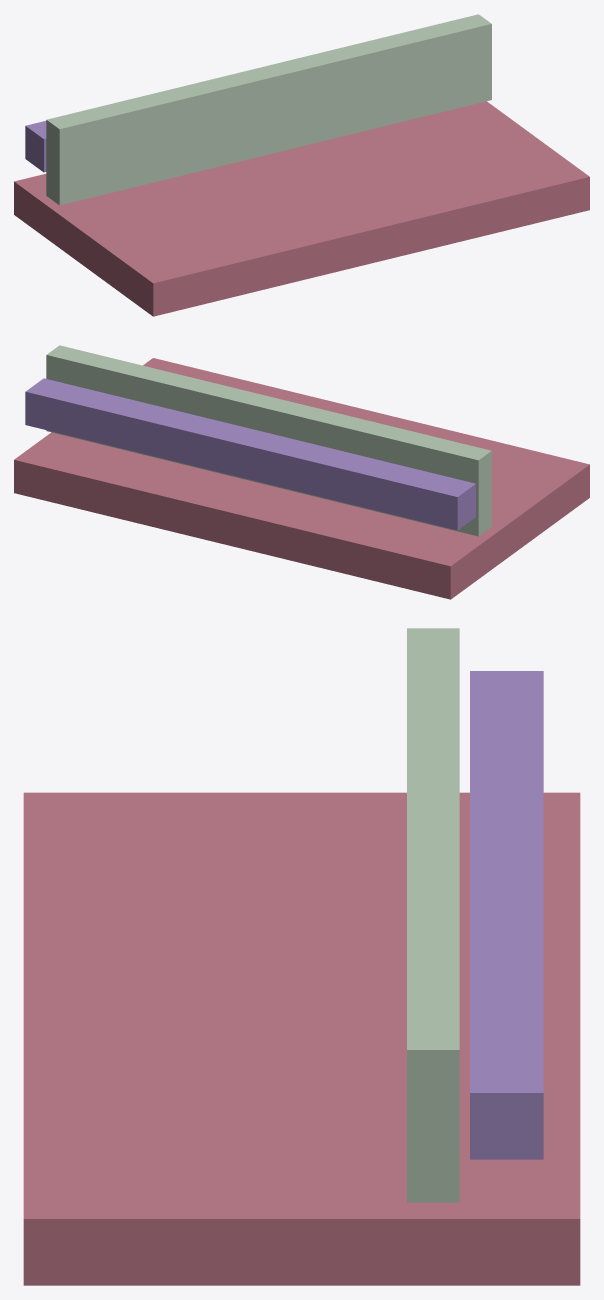
The model's file is 199510_pred.glb.
The picture shows the model from 3 angles, top to bottom: view 1: azimuth 30°, elevation 25°; view 2: azimuth 150°, elevation 25°; view 3: azimuth 270°, elevation 25°; orthographic projection. The views are drawn at different scales.
Visible parts, largest first — view 1: world; view 2: world; view 3: world.
Part boxes in pixels (bbox=[...]): world: bbox=[14, 14, 589, 316]; world: bbox=[14, 345, 589, 599]; world: bbox=[23, 628, 580, 1285].
Bounding box in the file's own units: 9.6 × 2.45 × 5.3.
